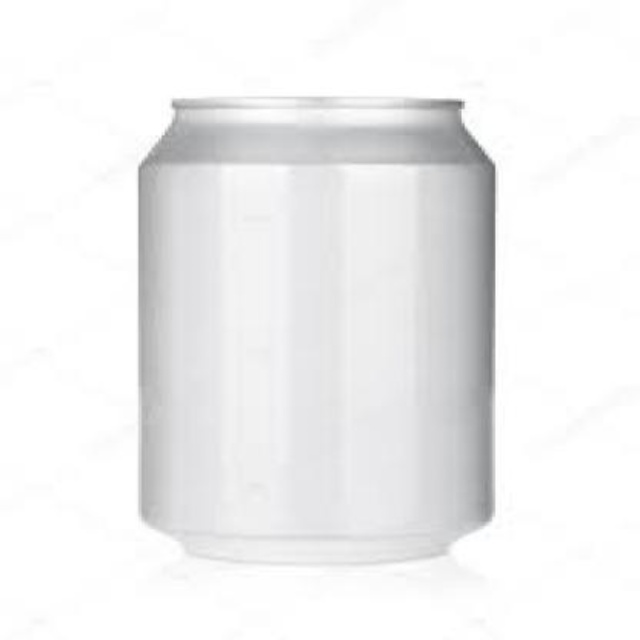trash: (138, 97, 492, 560)
